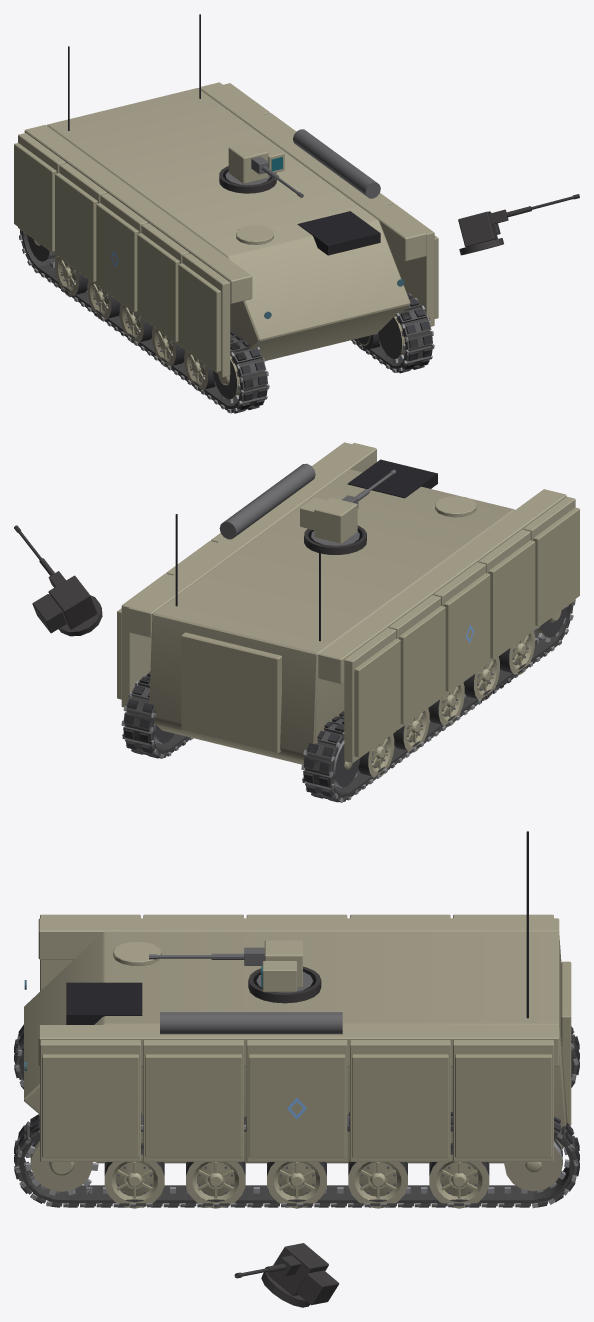
The model's file is apc__bulldog_fv432.glb.
3 views of the same model, one above another, from view 1: azimuth 30°, elevation 25°; view 2: azimuth 150°, elevation 25°; view 3: azimuth 270°, elevation 25° (orthographic). The views are drawn at different scales.
Visible parts, largest first — view 1: Hull_Mesh, Wreck, Track_L_Mesh, Track_R_Mesh, Turret_Mesh, Sprocket_R_Mesh, Wheel_L0_Mesh, Wheel_L3_Mesh, Wheel_L2_Mesh, Wheel_L1_Mesh, Wheel_L4_Mesh, Sprocket_L_Mesh; view 2: Hull_Mesh, Wreck, Track_L_Mesh, Track_R_Mesh, Turret_Mesh, Wheel_L2_Mesh, Wheel_L4_Mesh, Wheel_L3_Mesh, Wheel_L0_Mesh, Wheel_L1_Mesh, Idler_L_Mesh, Sprocket_L_Mesh; view 3: Hull_Mesh, Track_R_Mesh, Wreck, Wheel_R4_Mesh, Wheel_R0_Mesh, Wheel_R2_Mesh, Wheel_R1_Mesh, Wheel_R3_Mesh, Turret_Mesh, Sprocket_R_Mesh, Idler_R_Mesh, Track_L_Mesh (+1 smaller).
Boxes of the visible parts, left/top/right/bottom form: Hull_Mesh: left=14, top=14, right=438, bottom=377; Wreck: left=19, top=166, right=579, bottom=413; Track_L_Mesh: left=19, top=229, right=269, bottom=413; Track_R_Mesh: left=352, top=293, right=434, bottom=373; Turret_Mesh: left=225, top=141, right=284, bottom=185; Sprocket_R_Mesh: left=378, top=316, right=405, bottom=363; Wheel_L0_Mesh: left=55, top=256, right=88, bottom=296; Wheel_L3_Mesh: left=152, top=327, right=185, bottom=367; Wheel_L2_Mesh: left=119, top=303, right=152, bottom=343; Wheel_L1_Mesh: left=87, top=280, right=120, bottom=319; Wheel_L4_Mesh: left=184, top=350, right=215, bottom=391; Sprocket_L_Mesh: left=211, top=356, right=240, bottom=403; Hull_Mesh: left=117, top=442, right=579, bottom=764; Wreck: left=14, top=525, right=575, bottom=802; Track_L_Mesh: left=301, top=601, right=575, bottom=802; Track_R_Mesh: left=121, top=670, right=193, bottom=758; Turret_Mesh: left=300, top=497, right=359, bottom=546; Wheel_L2_Mesh: left=428, top=682, right=464, bottom=726; Wheel_L4_Mesh: left=498, top=631, right=535, bottom=675; Wheel_L3_Mesh: left=463, top=657, right=499, bottom=701; Wheel_L0_Mesh: left=357, top=734, right=394, bottom=777; Wheel_L1_Mesh: left=393, top=708, right=429, bottom=752; Idler_L_Mesh: left=333, top=740, right=360, bottom=787; Sprocket_L_Mesh: left=536, top=605, right=568, bottom=642; Hull_Mesh: left=24, top=831, right=571, bottom=1163; Track_R_Mesh: left=14, top=1112, right=579, bottom=1208; Wreck: left=14, top=966, right=579, bottom=1307; Wheel_R4_Mesh: left=104, top=1143, right=164, bottom=1208; Wheel_R0_Mesh: left=429, top=1143, right=489, bottom=1208; Wheel_R2_Mesh: left=267, top=1162, right=326, bottom=1208; Wheel_R1_Mesh: left=348, top=1161, right=407, bottom=1208; Wheel_R3_Mesh: left=186, top=1161, right=245, bottom=1208; Turret_Mesh: left=256, top=940, right=313, bottom=992; Sprocket_R_Mesh: left=25, top=1138, right=98, bottom=1195; Idler_R_Mesh: left=504, top=1138, right=562, bottom=1191; Track_L_Mesh: left=14, top=1024, right=579, bottom=1089.
Size of what is drawn, in the model's own units: 6.32 by 3.03 by 5.58.
